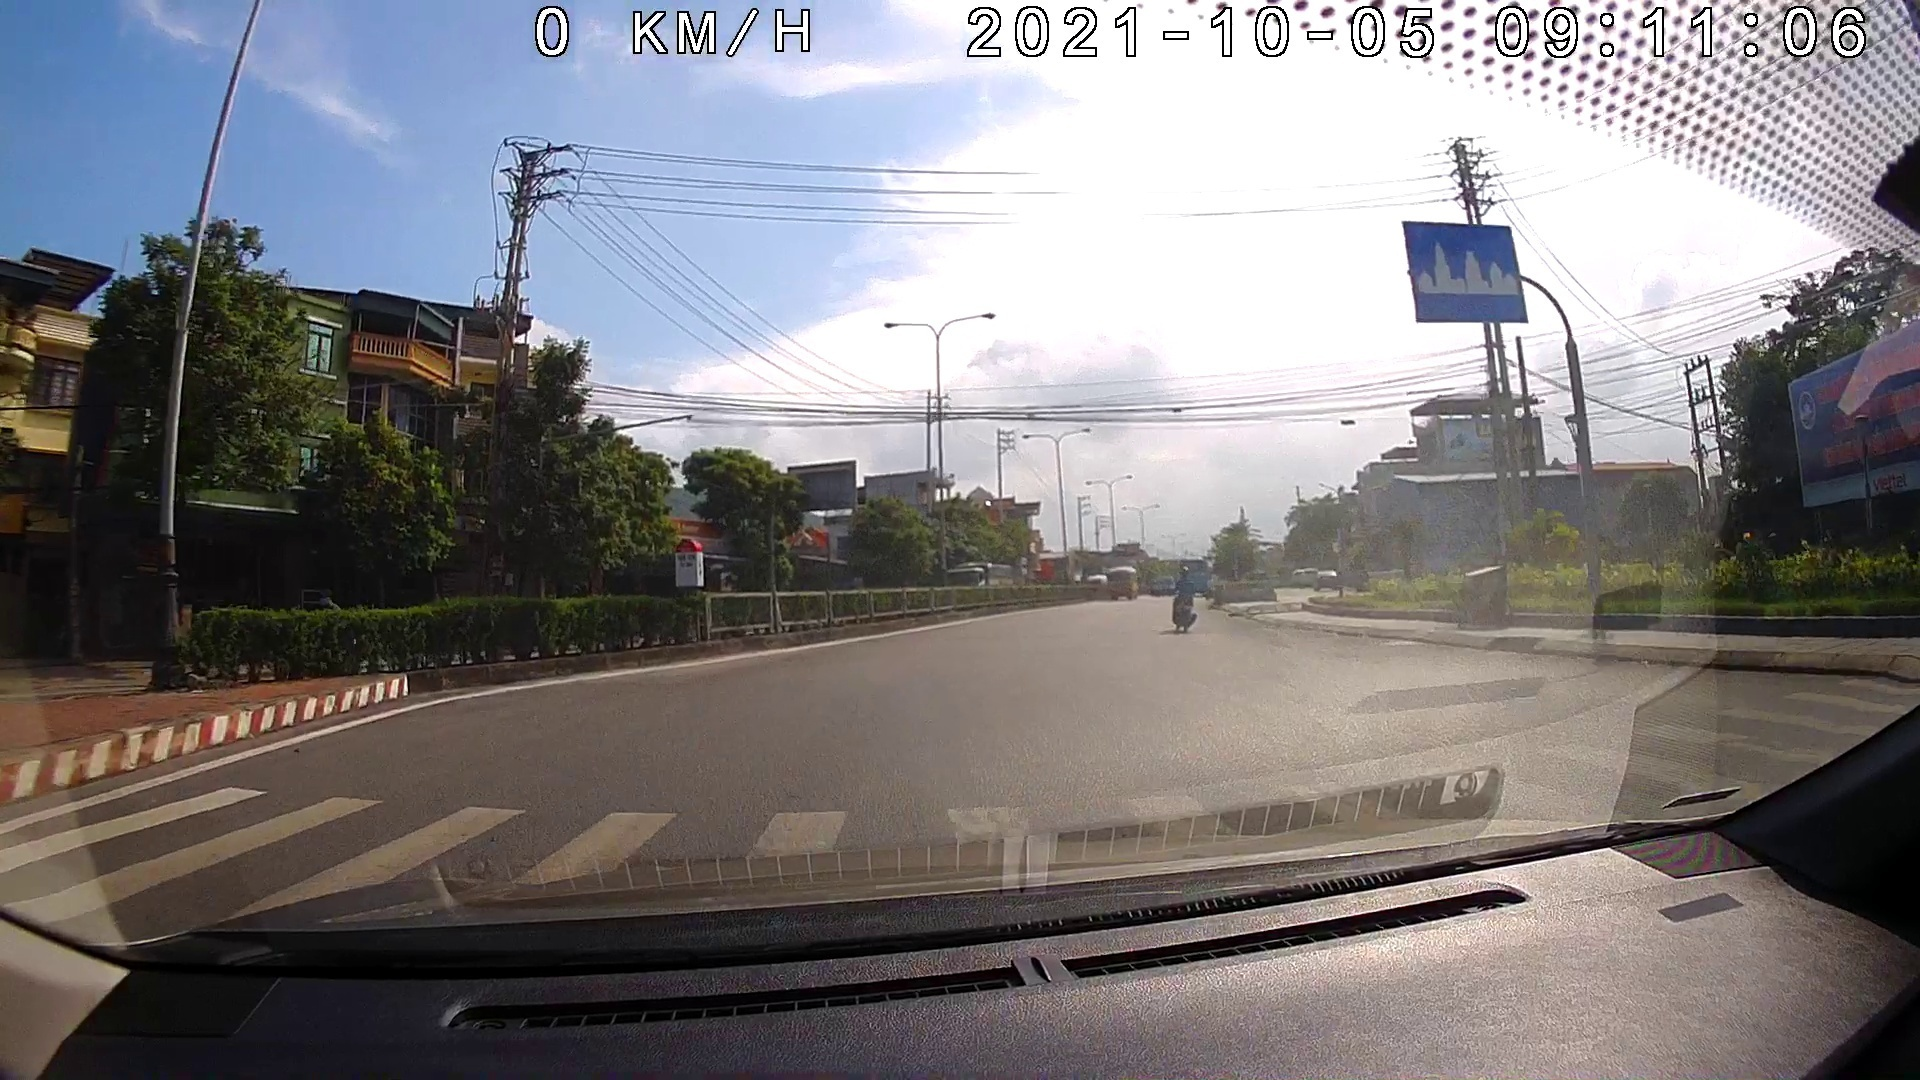Bien khac: (1402, 220, 1534, 327)
